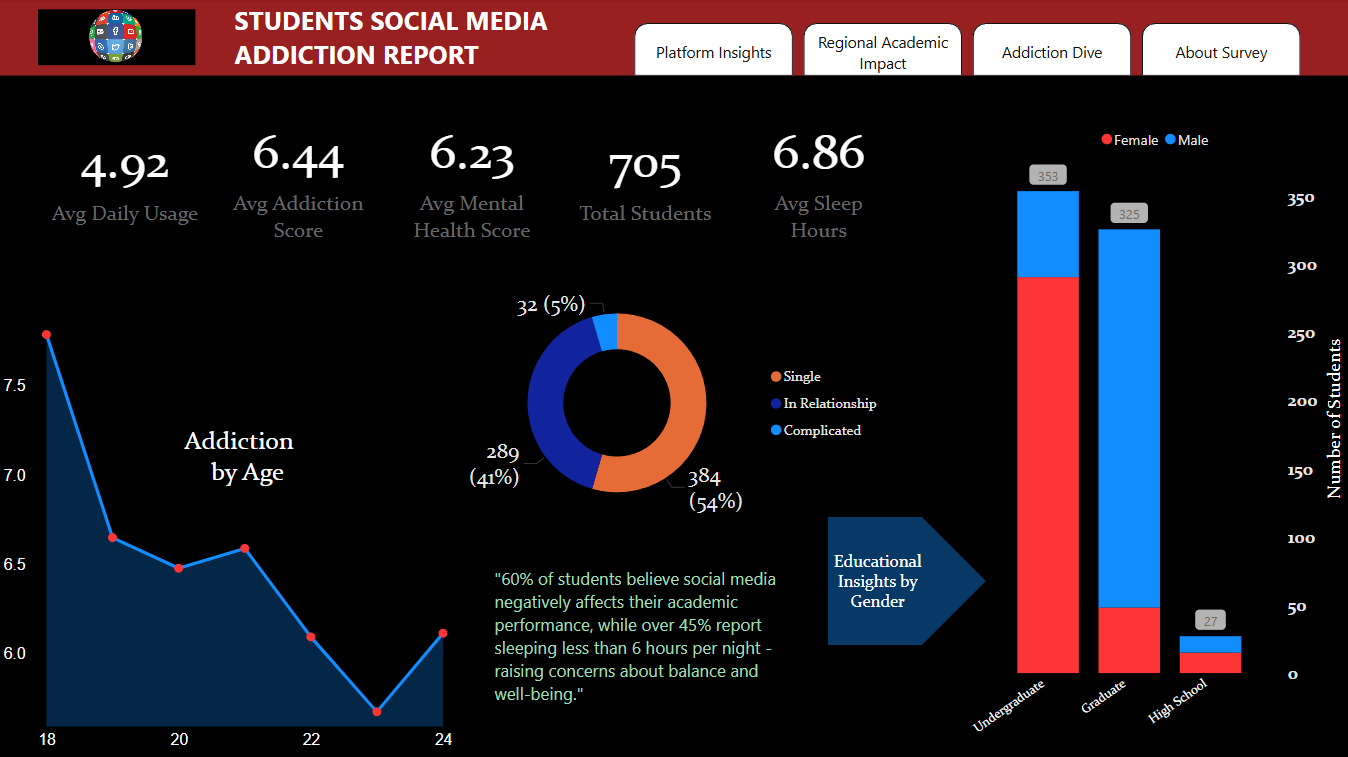

The dashboard page shown, as its layout file describes it:
{"tool":"powerbi","page":{"name":"Social Media Overview","canvas":[1280,720],"ordinal":0},"visuals":[{"type":"cardVisual","fields":{"Data":["Avg(Students Social Media Addiction.Avg_Daily_Usage_Hours)","Avg(Students Social Media Addiction.Addicted_Score)","Avg(Students Social Media Addiction.Mental Health Score)","CountNonNull(Students Social Media Addiction.Student_ID)","Avg(Students Social Media Addiction.Sleep_Hours_Per_Night)"]},"box":[32.7,99.7,833.3,141.7],"z":0},{"type":"donutChart","fields":{"Category":["Students Social Media Addiction.Relationship_Status"],"Y":["CountNonNull(Students Social Media Addiction.Student_ID)"]},"box":[436.1,255.4,409.6,255.4],"z":1000},{"type":"lineStackedColumnComboChart","fields":{"Category":["Students Social Media Addiction.Academic_Level"],"Y":["CountNonNull(Students Social Media Addiction.Student_ID)"],"Series":["Students Social Media Addiction.Gender"]},"box":[911.2,113.7,369.1,605.9],"z":2000},{"type":"shape","box":[0,0,1280.3,73.3],"z":3000},{"type":"image","box":[32.7,6.2,158.9,62.3],"z":4000},{"type":"pageNavigator","box":[601.1,23.2,631.1,50.5],"z":5000},{"type":"lineChart","fields":{"Category":["Students Social Media Addiction.Age"],"Y":["Avg(Students Social Media Addiction.Addicted_Score)"]},"box":[0,300.6,436.1,419],"z":6000},{"type":"textbox","box":[171.3,398.7,129.3,77.9],"z":7000},{"type":"shape","box":[785,490.6,149.5,121.5],"z":7001},{"type":"textbox","box":[464.2,532.7,295.9,160.4],"z":7002},{"type":"textbox","box":[218.6,0,352.4,83.3],"z":7003}]}

Visuals, with their boxes in screenshot pixels (x1, y1, x2, y2), scaled from the page's 1280x720 canvas onto the 1348x757 screenshot:
cardVisual - Avg(Students Social Media Addiction.Avg_Daily_Usage_Hours) x Avg(Students Social Media Addiction.Addicted_Score): x1=34, y1=105, x2=912, y2=254
donutChart - Students Social Media Addiction.Relationship_Status x CountNonNull(Students Social Media Addiction.Student_ID): x1=459, y1=269, x2=891, y2=537
lineStackedColumnComboChart - Students Social Media Addiction.Academic_Level x CountNonNull(Students Social Media Addiction.Student_ID): x1=960, y1=120, x2=1347, y2=756
shape: x1=0, y1=0, x2=1347, y2=77
image: x1=34, y1=7, x2=202, y2=72
pageNavigator: x1=633, y1=24, x2=1298, y2=77
lineChart - Students Social Media Addiction.Age x Avg(Students Social Media Addiction.Addicted_Score): x1=0, y1=316, x2=459, y2=756
textbox: x1=180, y1=419, x2=317, y2=501
shape: x1=827, y1=516, x2=984, y2=644
textbox: x1=489, y1=560, x2=800, y2=729
textbox: x1=230, y1=0, x2=601, y2=88
